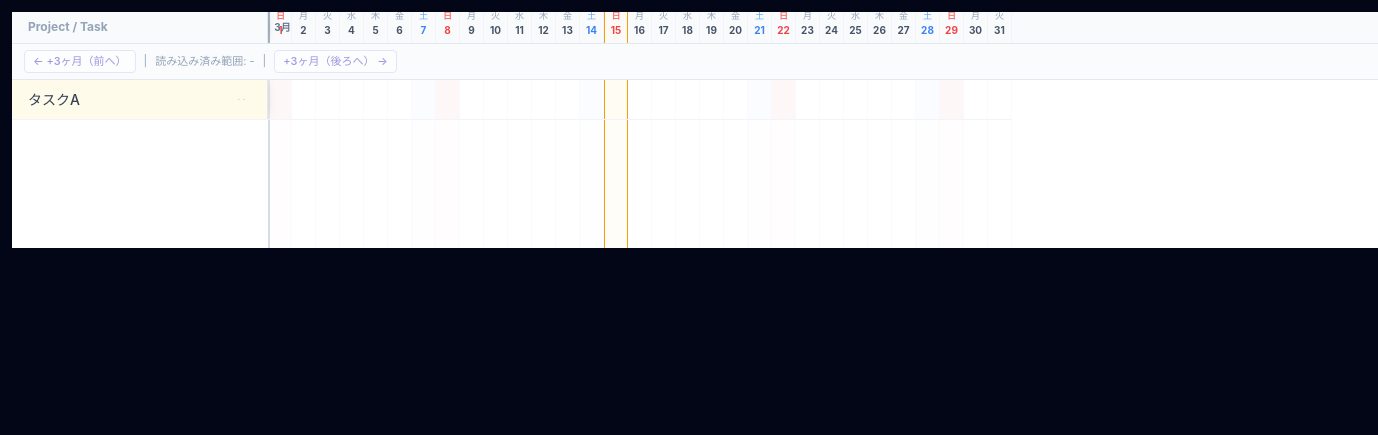
Test: R-094-A: ガントの前後挿入で連続インライン入力UX › 連続作成後、次のインライン行に何も入力せず離脱すると保存されず消える
This screenshot has width=1378, height=435.
Right-click the element showing "タスクA --" at (140, 99), box [12,80,268,118]
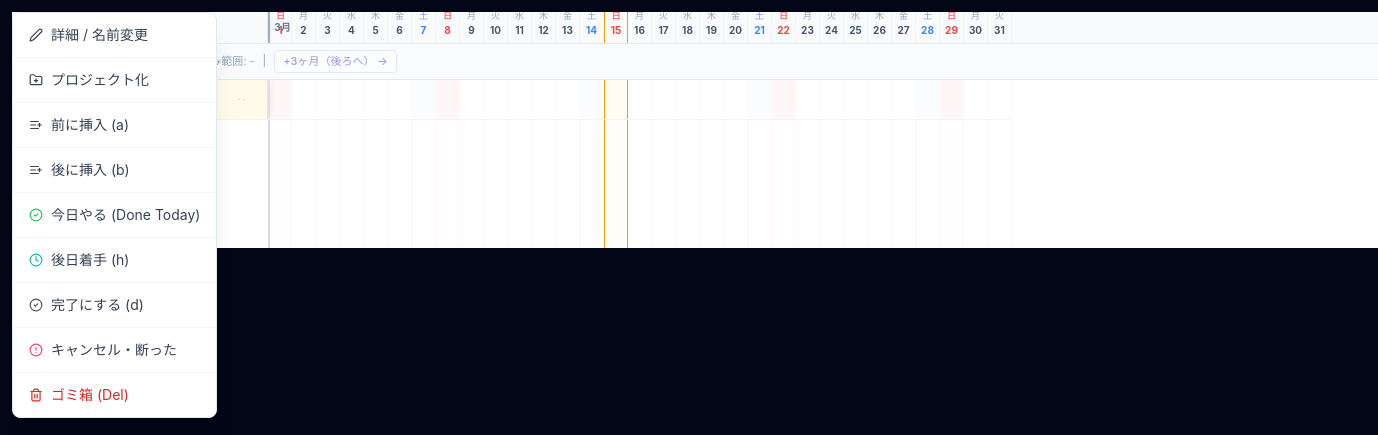
Click the button "後に挿入 (b)" at (115, 170), box [13,152,216,188]
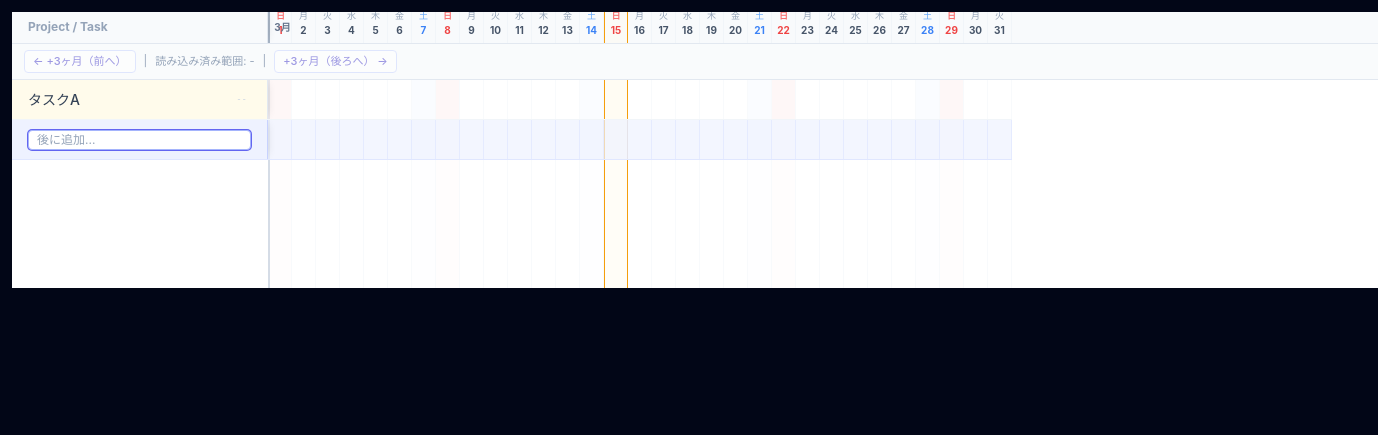
Type "新タスクD" into the field with placeholder "後に追加..." at (140, 139), box [28,129,251,149]
Press Enter in the field with placeholder "後に追加...", box [28,129,251,149]
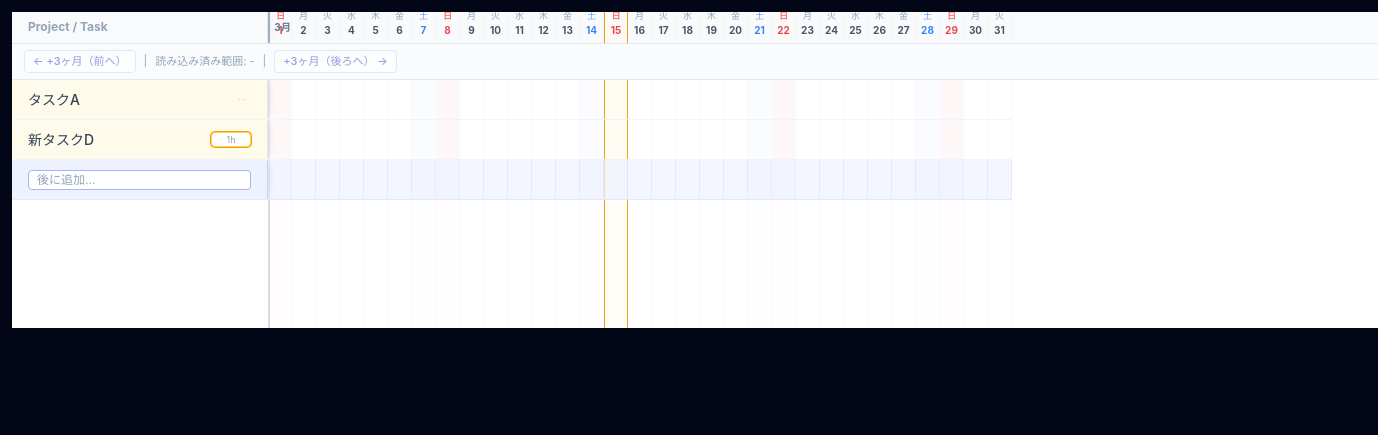
Type "2h" into the field with placeholder "1h" at (231, 139), box [211,131,251,147]
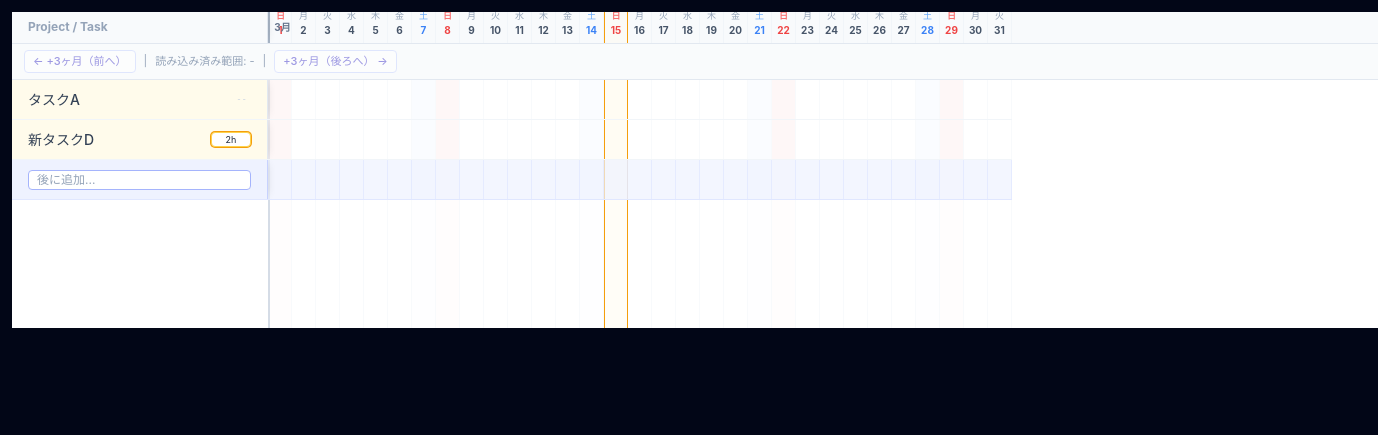
Press Enter in the field with placeholder "1h", box [211,131,251,147]
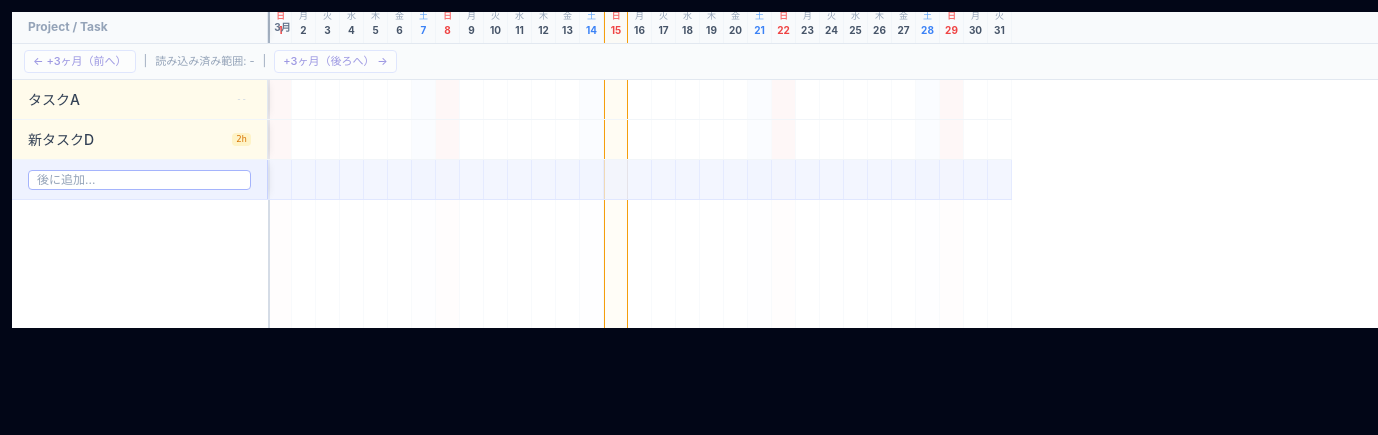
Now the field with placeholder "後に追加..." is empty
Leave the field with placeholder "後に追加...", box [28,169,251,189]
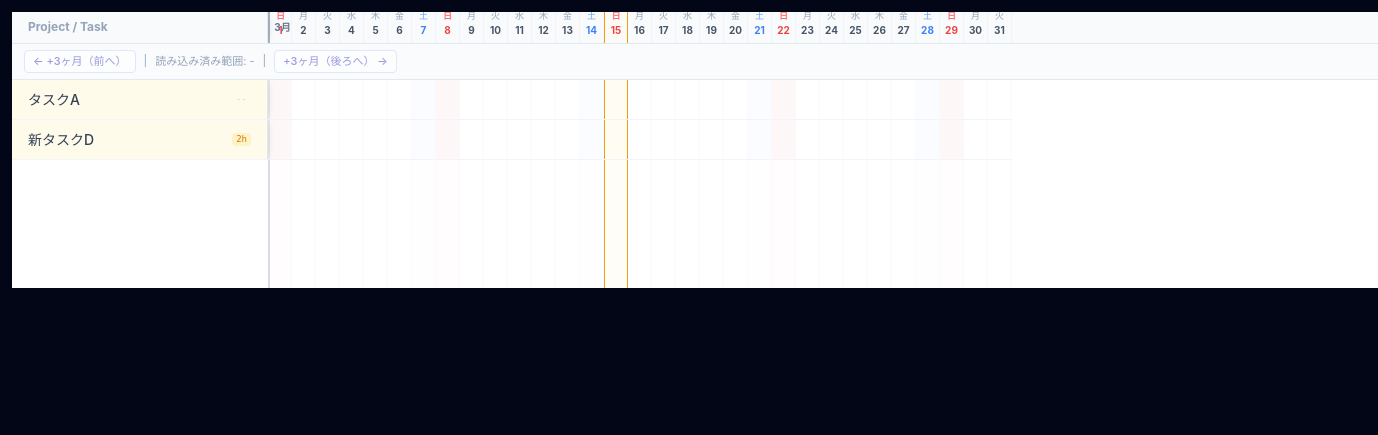
Now the field with placeholder "後に追加..." is gone
